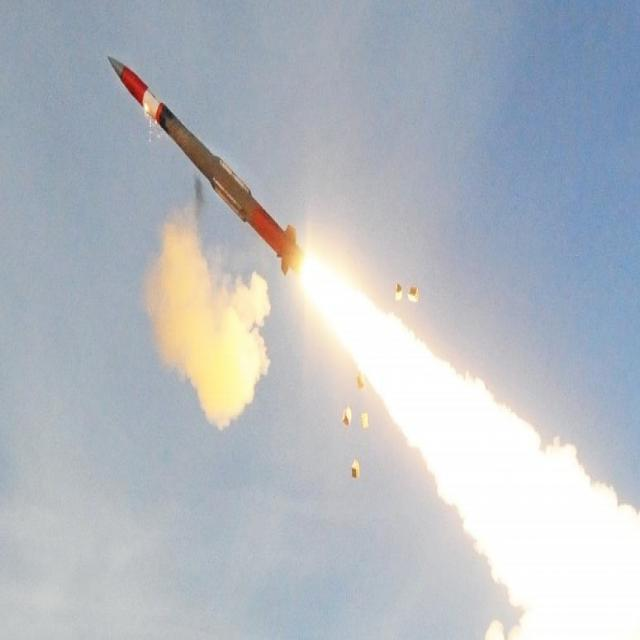Missile: (106, 39, 318, 293)
